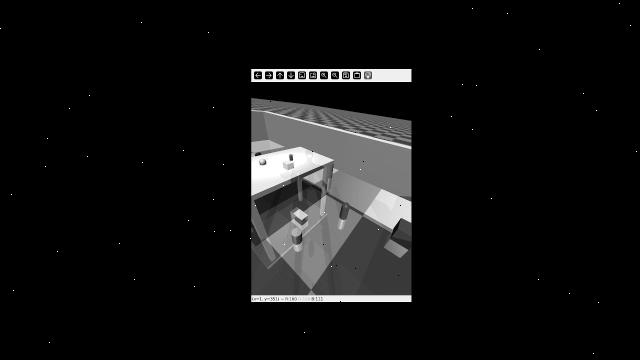cilindro: (335, 200, 352, 222), (292, 227, 304, 247), (326, 163, 338, 179), (286, 152, 296, 164)
cuadrado: (388, 214, 411, 253), (281, 160, 295, 170)
esfera: (259, 156, 267, 168)
rectangulo: (285, 207, 312, 226)
